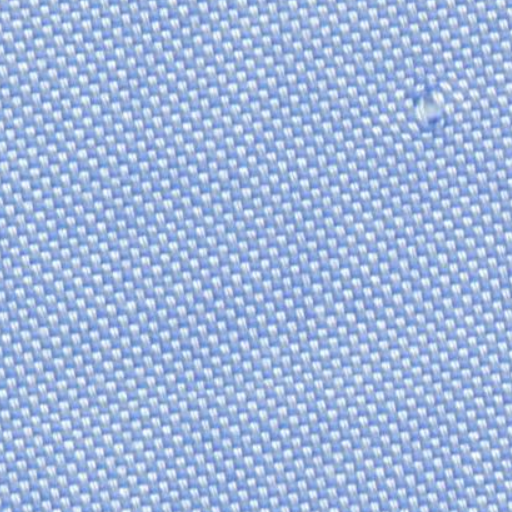PoDong: (398, 68, 462, 146)
